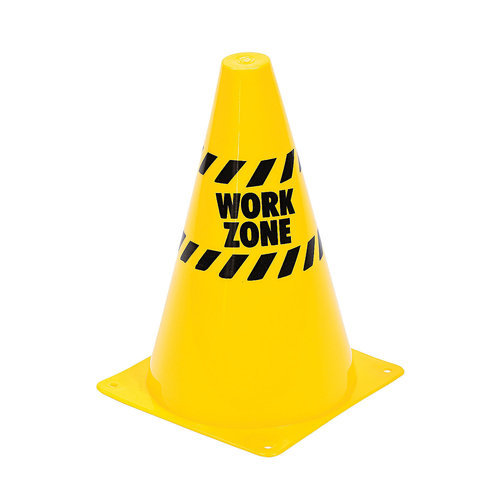yellowC: (87, 39, 408, 468)
